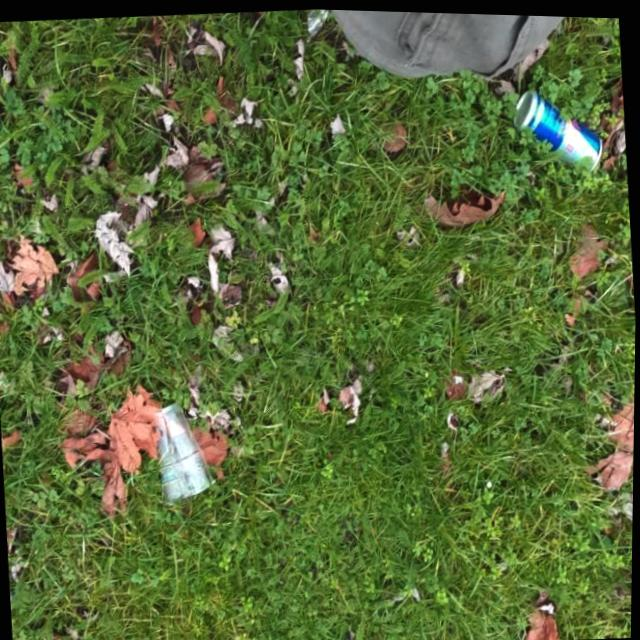Can-Metal: (510, 78, 607, 177)
Cup: (151, 394, 221, 507)
